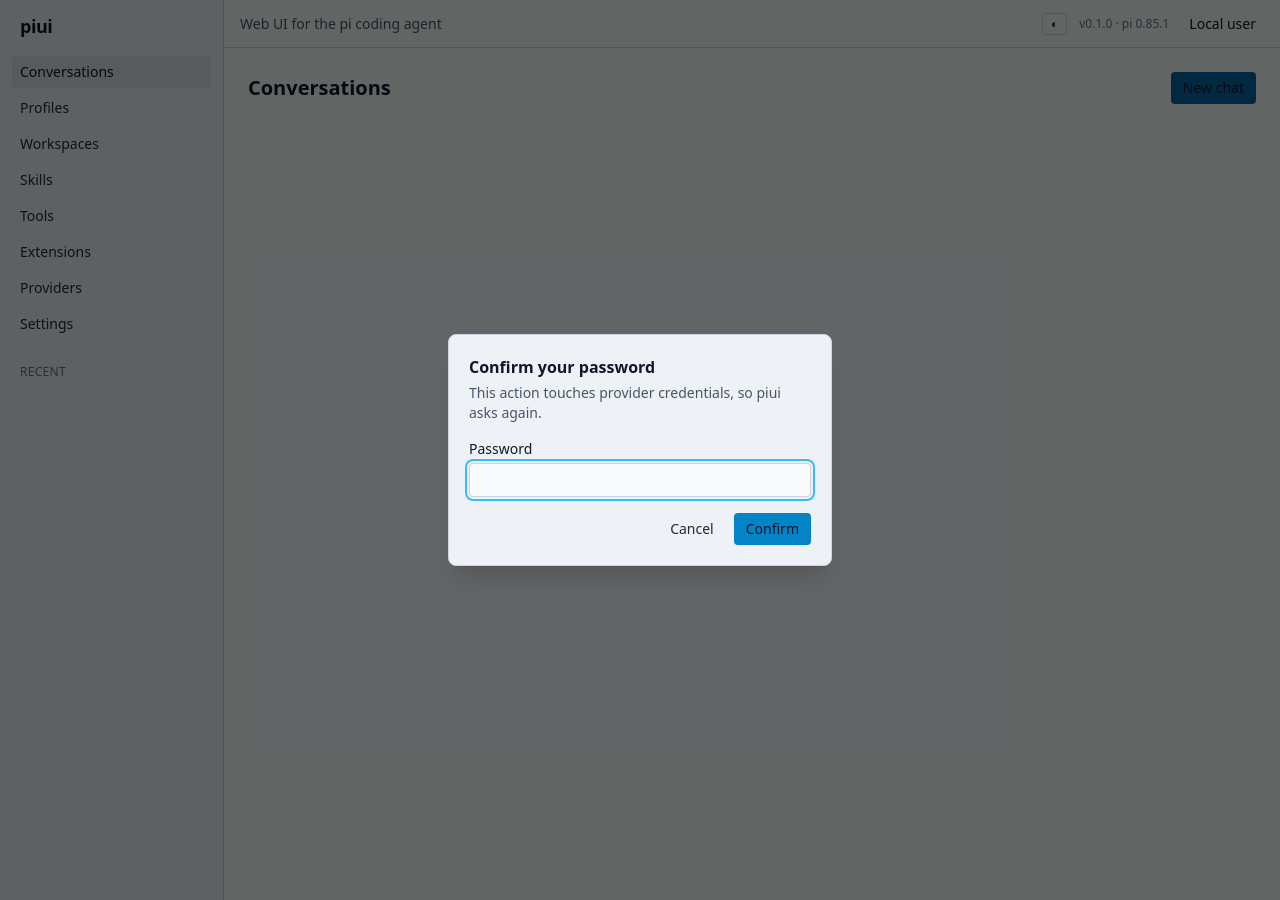
Test: StepUpDialog › submits the password, closes, and lets the retry proceed
expect the link "Conversations" is shown: met, box [12,56,211,88]
Type "test" into the password field labelled "Password" at (640,480), box [469,463,811,497]
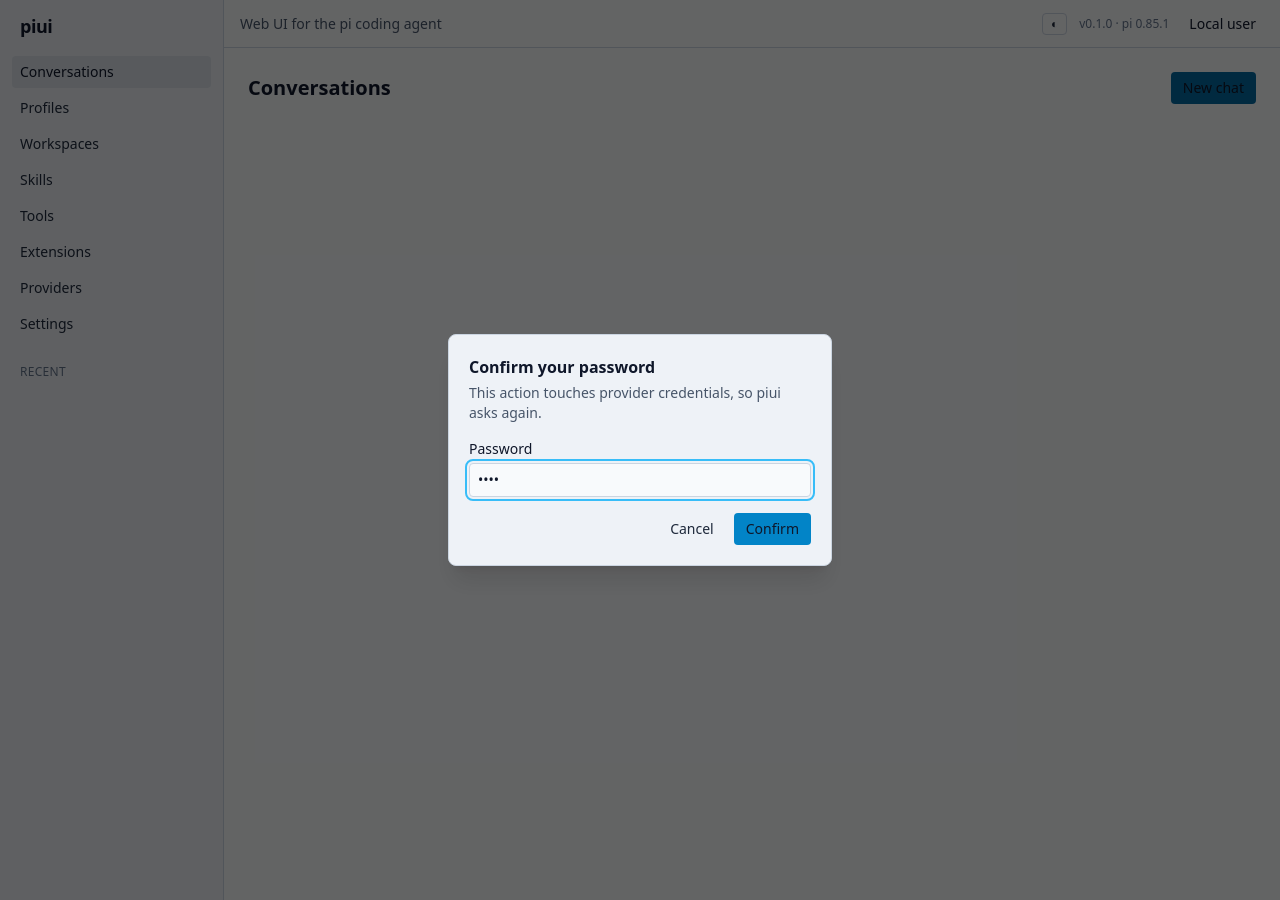
Click the button "Confirm" at (772,529), box [734,513,811,545]
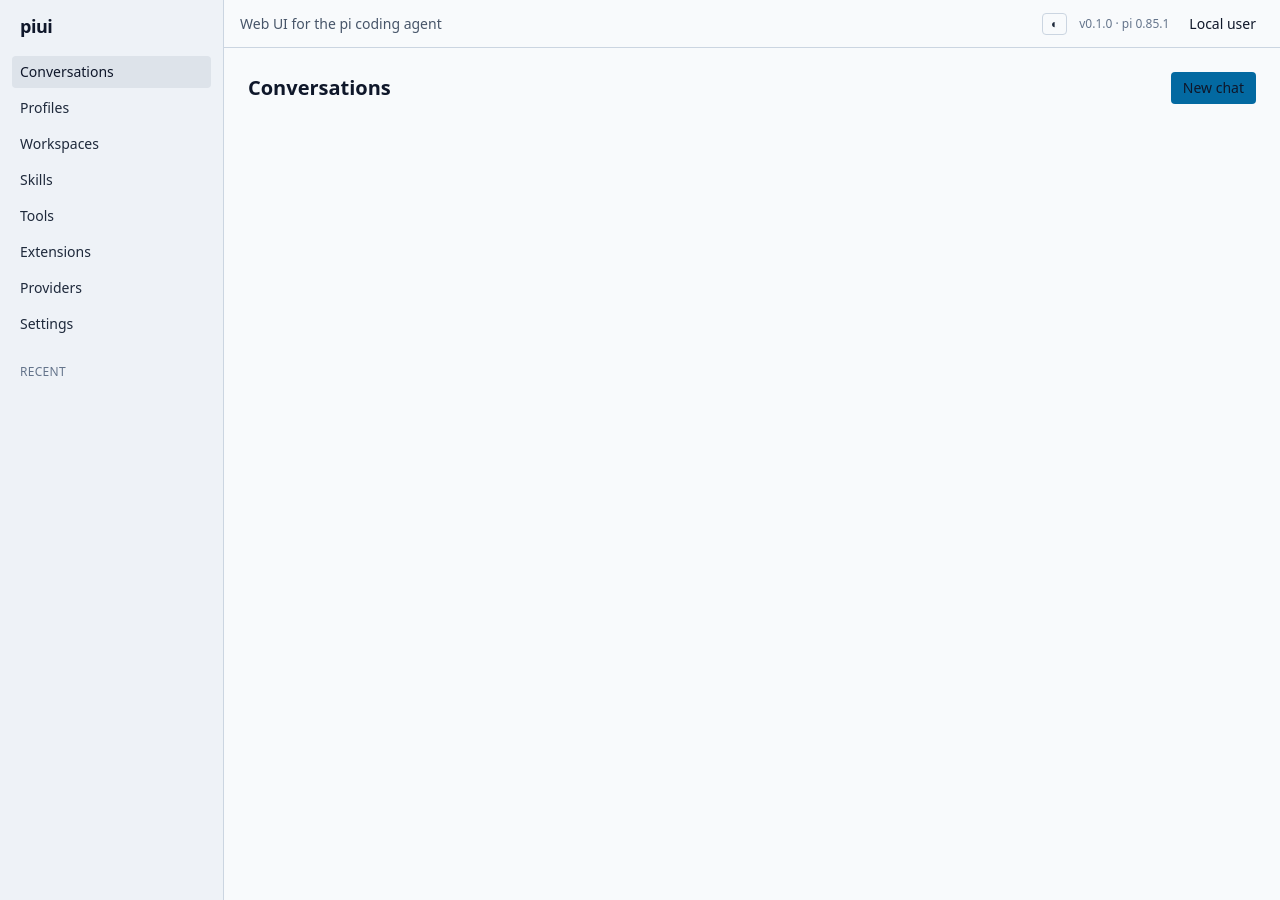
expect the heading labelled "password" is gone: met
